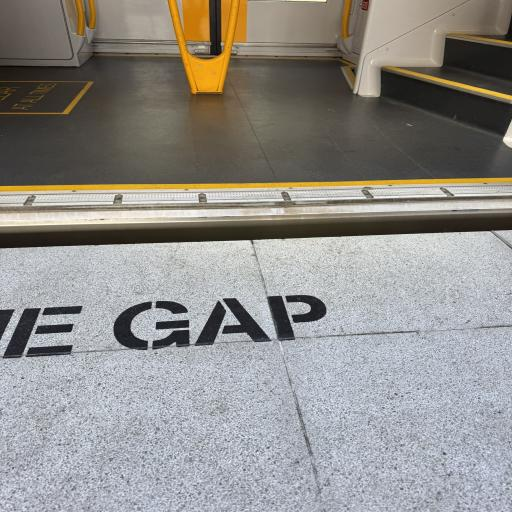gap: (0, 215, 512, 248)
